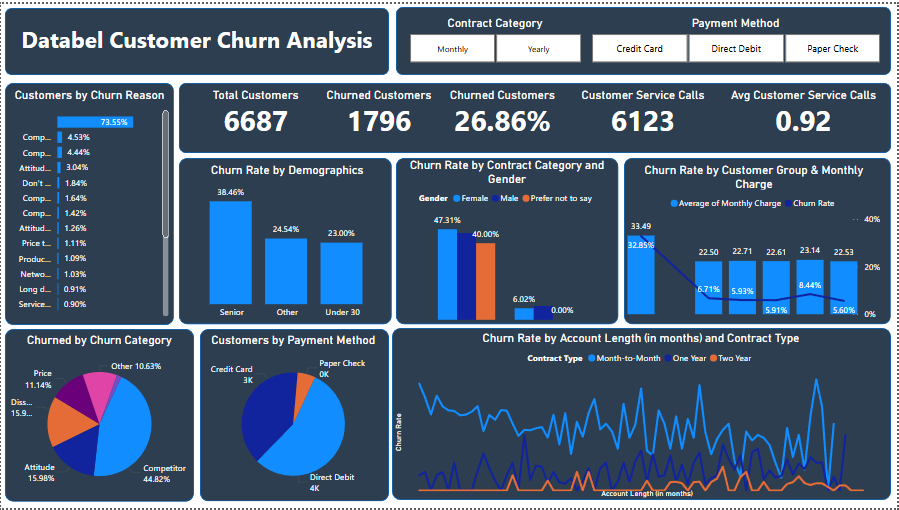

The dashboard page shown, as its layout file describes it:
{"tool":"powerbi","page":{"name":"Page 14","canvas":[1280,720],"ordinal":8},"visuals":[{"type":"shape","box":[254.5,112.7,1017.3,100],"z":0},{"type":"shape","box":[5.7,5.7,548.6,95.7],"z":1000},{"type":"textbox","box":[17.1,22.9,525.7,67.1],"z":2000},{"type":"card","title":"Total Customers","fields":{"Values":["Databel - Data.No of Unique Customers"]},"box":[275.9,119.6,176.2,77.5],"z":3000},{"type":"card","title":"Churned Customers","fields":{"Values":["Databel - Data.Number of Churned Customers"]},"box":[451.4,120,177.1,77.1],"z":4000},{"type":"card","title":"Churned Customers","fields":{"Values":["Databel - Data.Churn Rate"]},"box":[628.6,120,175.7,77.1],"z":5000},{"type":"card","title":"Churned Customers","fields":{"Values":["Sum(Databel - Data.Customer Service Calls)"]},"box":[1096.2,231.2,176.2,70],"z":6000},{"type":"shape","box":[5.7,112.9,241.4,345.7],"z":7000},{"type":"shape","box":[253.8,220,303.8,237.5],"z":8000},{"type":"shape","box":[563.8,220,317.5,237.5],"z":9000},{"type":"shape","box":[6.1,464.3,270,246.7],"z":10000,"group":"g1"},{"type":"shape","box":[890,220,381.2,237.5],"z":10001},{"type":"shape","box":[558.6,462.9,712.9,245.7],"z":10003},{"type":"card","title":"Customer Service Calls","fields":{"Values":["Sum(Databel - Data.Customer Service Calls)"]},"box":[818.6,120,197.1,77.1],"z":10004},{"type":"card","title":"Avg Customer Service Calls","fields":{"Values":["Avg(Databel - Data.Customer Service Calls)"]},"box":[1031.4,120,230,77.1],"z":10005},{"type":"shape","box":[563.8,4.6,716.2,96.9],"z":10006},{"type":"barChart","title":"Customers by Churn Reason","fields":{"Y":["Databel - Data.No of Customers"],"Category":["Databel - Data.Churn Reason"]},"box":[8.6,120,235.7,331.4],"z":10007},{"type":"pieChart","title":"Churned by Churn Category","fields":{"Category":["Databel - Data.Churn Category"],"Y":["Sum(Databel - Data.Churned)"]},"box":[5.7,469.3,270,241.2],"z":10008,"group":"g1"},{"type":"shape","box":[284.3,464.3,270,246.2],"z":10009,"group":"g2"},{"type":"pieChart","title":"Customers by Payment Method","fields":{"Category":["Databel - Data.Payment Method"],"Y":["Databel - Data.No of Customers"]},"box":[284.3,469.3,266.2,241.2],"z":10010,"group":"g2"},{"type":"columnChart","fields":{"Category":["Databel - Data.Demographics"],"Y":["Databel - Data.Churn Rate"]},"box":[261.7,226.7,295,231.7],"z":10011},{"type":"lineStackedColumnComboChart","title":"Churn Rate by Customer Group & Monthly Charge","fields":{"Y2":["Databel - Data.Churn Rate"],"Category":["Databel - Data.Number of Customers in Group"],"Y":["Avg(Databel - Data.Monthly Charge)"]},"box":[890,227.1,371.4,230],"z":10012},{"type":"clusteredColumnChart","fields":{"Y":["Databel - Data.Churn Rate"],"Series":["Databel - Data.Gender"],"Category":["Databel - Data.Contract Category"]},"box":[564.3,220,317.1,237.1],"z":10013},{"type":"lineChart","fields":{"Y":["Databel - Data.Churn Rate"],"Category":["Databel - Data.Account Length (in months)"],"Series":["Databel - Data.Contract Type"]},"box":[557.1,467.1,714.3,242.9],"z":10014},{"type":"group","id":"g1","title":"Group 1","box":[5.7,464.3,270,245.7],"z":10015},{"type":"group","id":"g2","title":"Group 2","box":[284.3,464.3,270,245.7],"z":10016},{"type":"slicer","title":"Contract Category","fields":{"Values":["Databel - Data.Contract Category"]},"box":[558.6,17.1,294.3,72.9],"z":10017},{"type":"slicer","title":"Payment Method","fields":{"Values":["Databel - Data.Payment Method"]},"box":[818.6,17.1,461.4,72.9],"z":10018}]}

Visuals, with their boxes in screenshot pixels (x1, y1, x2, y2), scaled from the page's 1280x720 canvas onto the 899x510 screenshot:
shape: box(179, 80, 893, 151)
shape: box(4, 4, 389, 72)
textbox: box(12, 16, 381, 64)
"Total Customers" card: box(194, 85, 318, 140)
"Churned Customers" card: box(317, 85, 441, 140)
"Churned Customers" card: box(441, 85, 565, 140)
"Churned Customers" card: box(770, 164, 894, 213)
shape: box(4, 80, 174, 325)
shape: box(178, 156, 392, 324)
shape: box(396, 156, 619, 324)
shape: box(4, 329, 194, 504)
shape: box(625, 156, 893, 324)
shape: box(392, 328, 893, 502)
"Customer Service Calls" card: box(575, 85, 713, 140)
"Avg Customer Service Calls" card: box(724, 85, 886, 140)
shape: box(396, 3, 898, 72)
"Customers by Churn Reason" barChart: box(6, 85, 172, 320)
"Churned by Churn Category" pieChart: box(4, 332, 194, 503)
shape: box(200, 329, 389, 503)
"Customers by Payment Method" pieChart: box(200, 332, 387, 503)
columnChart - Databel - Data.Demographics x Databel - Data.Churn Rate: box(184, 161, 391, 325)
"Churn Rate by Customer Group & Monthly Charge" lineStackedColumnComboChart: box(625, 161, 886, 324)
clusteredColumnChart - Databel - Data.Churn Rate x Databel - Data.Gender: box(396, 156, 619, 324)
lineChart - Databel - Data.Churn Rate x Databel - Data.Account Length (in months): box(391, 331, 893, 503)
"Group 1" group: box(4, 329, 194, 503)
"Group 2" group: box(200, 329, 389, 503)
"Contract Category" slicer: box(392, 12, 599, 64)
"Payment Method" slicer: box(575, 12, 898, 64)
